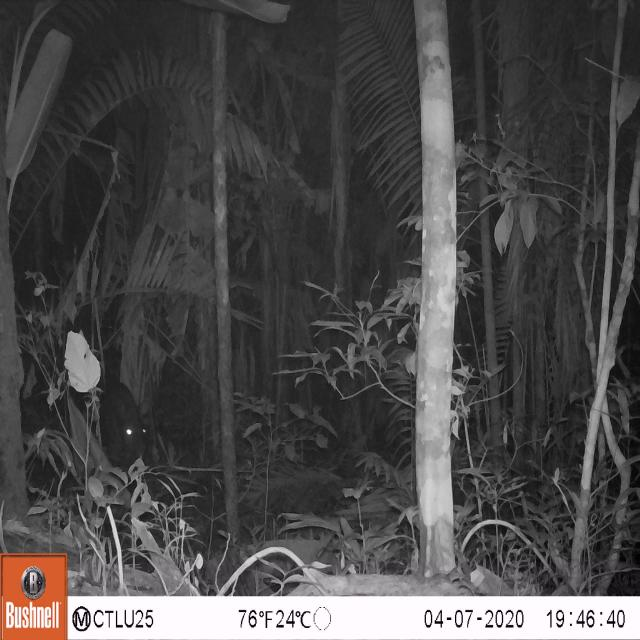Lowland Tapir: (90, 383, 160, 471)
